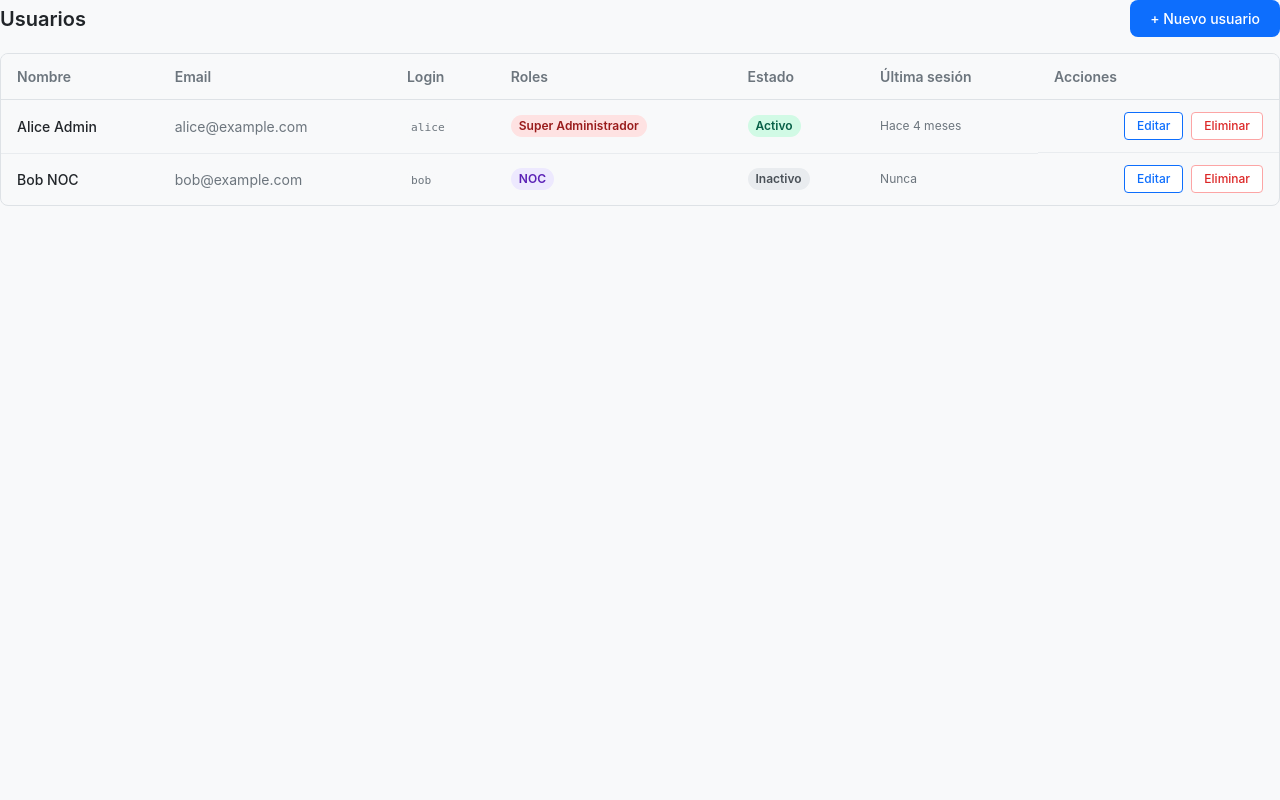
RbacUsersBody › opens RbacUserModal in create mode when "+ Nuevo usuario" is clicked
Click the button "+ Nuevo usuario".
click(1205, 18)  # box [1130,0,1279,37]
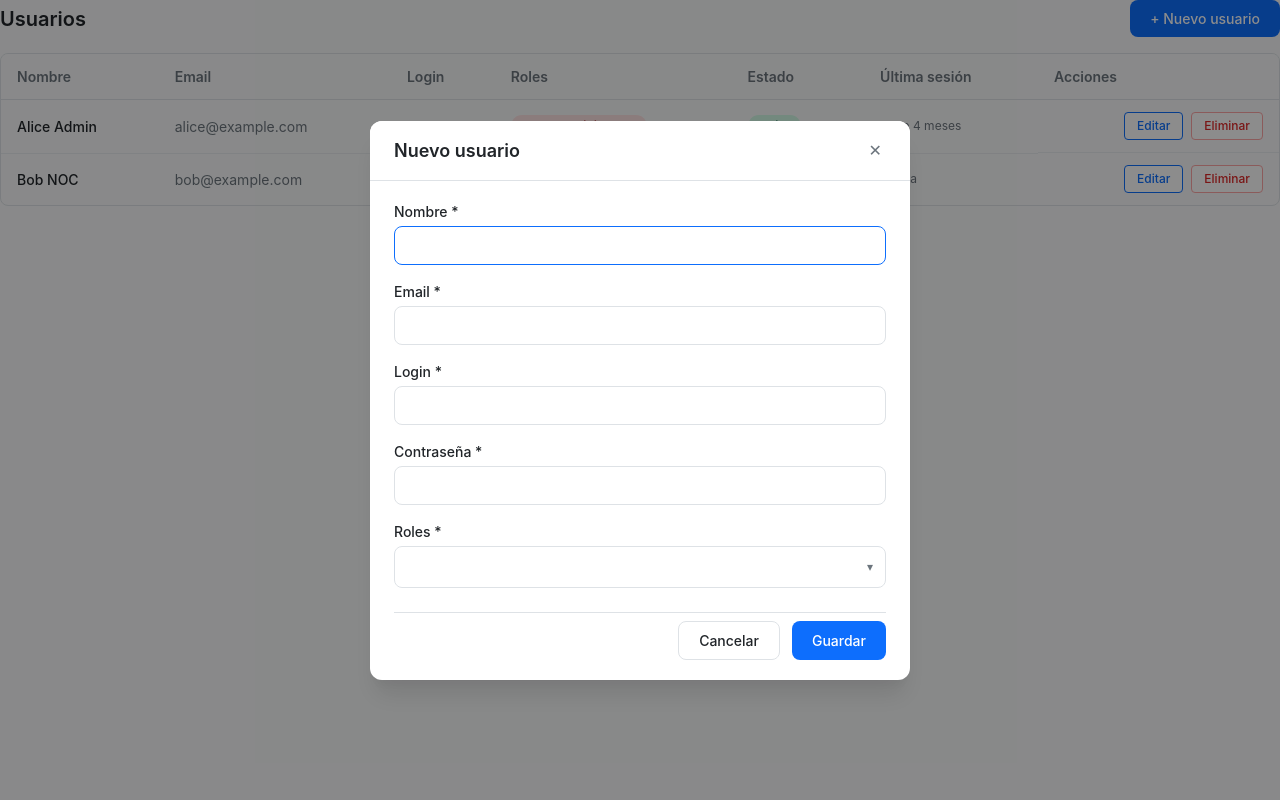
Now the dialog is shown, box [370,120,910,680]
Now the heading "Nuevo usuario" is shown, box [394,136,520,164]
